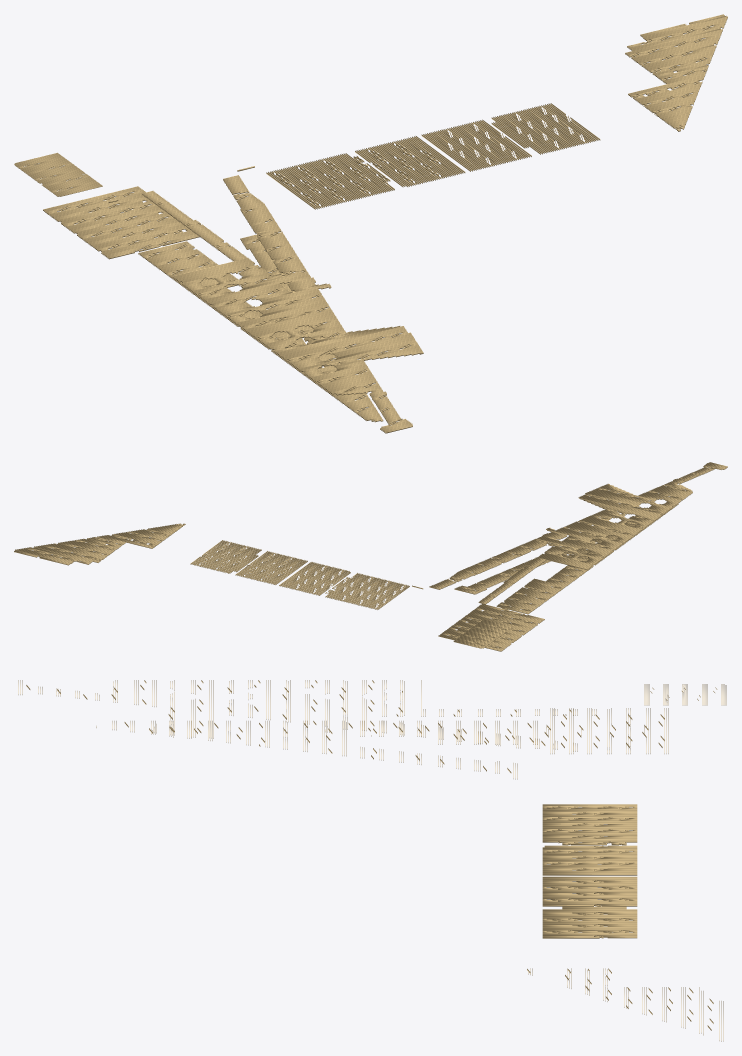
The model's file is Roof Ribs.fbx.
The picture shows the model from 3 angles, top to bottom: view 1: azimuth 30°, elevation 25°; view 2: azimuth 150°, elevation 25°; view 3: azimuth 270°, elevation 25°; orthographic projection. The views are drawn at different scales.
Parts seen in each view (by area): view 1: Roof Wood Stuff.008, Roof Wood Stuff.001, Roof Wood Stuff.007, Roof Wood Stuff, Roof Wood Stuff.005, Roof Wood Stuff.002, Roof Wood Stuff.004, Roof Wood Stuff.003, Roof Wood Stuff.006; view 2: Roof Wood Stuff.008, Roof Wood Stuff, Roof Wood Stuff.001, Roof Wood Stuff.007, Roof Wood Stuff.005, Roof Wood Stuff.002, Roof Wood Stuff.003, Roof Wood Stuff.004, Roof Wood Stuff.006; view 3: Roof Wood Stuff.005, Roof Wood Stuff.008, Roof Wood Stuff.002, Roof Wood Stuff.003, Roof Wood Stuff.004, Roof Wood Stuff, Roof Wood Stuff.007, Roof Wood Stuff.001, Roof Wood Stuff.006.
Part boxes in pixels (left/top/right/bottom): Roof Wood Stuff.008: left=108, top=166, right=423, bottom=433; Roof Wood Stuff.001: left=625, top=14, right=727, bottom=131; Roof Wood Stuff.007: left=43, top=186, right=199, bottom=259; Roof Wood Stuff: left=138, top=234, right=383, bottom=422; Roof Wood Stuff.005: left=266, top=153, right=394, bottom=209; Roof Wood Stuff.002: left=491, top=103, right=600, bottom=154; Roof Wood Stuff.004: left=355, top=136, right=465, bottom=187; Roof Wood Stuff.003: left=421, top=119, right=531, bottom=171; Roof Wood Stuff.006: left=14, top=152, right=102, bottom=196; Roof Wood Stuff.008: left=412, top=462, right=727, bottom=609; Roof Wood Stuff: left=454, top=503, right=678, bottom=614; Roof Wood Stuff.001: left=14, top=523, right=185, bottom=565; Roof Wood Stuff.007: left=438, top=604, right=544, bottom=651; Roof Wood Stuff.005: left=325, top=573, right=409, bottom=609; Roof Wood Stuff.002: left=190, top=540, right=261, bottom=573; Roof Wood Stuff.003: left=235, top=551, right=307, bottom=584; Roof Wood Stuff.004: left=279, top=562, right=350, bottom=595; Roof Wood Stuff.006: left=453, top=619, right=512, bottom=648; Roof Wood Stuff.005: left=542, top=804, right=637, bottom=845; Roof Wood Stuff.008: left=18, top=680, right=596, bottom=751; Roof Wood Stuff.002: left=542, top=906, right=637, bottom=938; Roof Wood Stuff.003: left=542, top=876, right=637, bottom=906; Roof Wood Stuff.004: left=542, top=845, right=637, bottom=875; Roof Wood Stuff: left=96, top=721, right=537, bottom=779; Roof Wood Stuff.007: left=544, top=708, right=668, bottom=753; Roof Wood Stuff.001: left=527, top=968, right=723, bottom=1041; Roof Wood Stuff.006: left=644, top=684, right=726, bottom=705.
Size of the model in its own units: 11601 by 475 by 10523.
